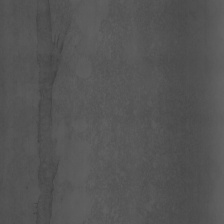water_spot: (32, 5, 66, 213)
